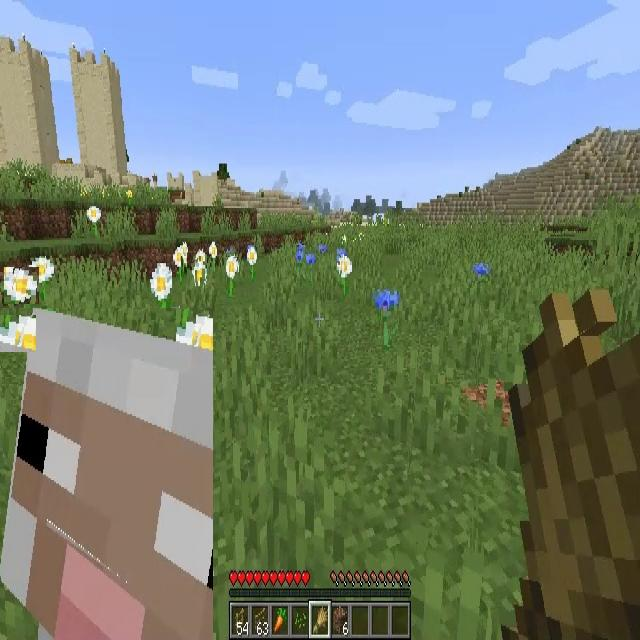flower: (375, 291, 399, 345), (4, 267, 39, 304), (1, 315, 36, 352), (152, 262, 172, 310), (33, 253, 54, 281), (336, 258, 352, 294), (226, 257, 238, 298), (88, 207, 100, 236), (192, 264, 207, 287), (246, 245, 256, 279), (173, 250, 183, 282), (296, 245, 306, 275), (306, 252, 316, 282), (473, 264, 490, 281), (208, 242, 218, 268), (181, 242, 187, 274)
sheep: (0, 308, 213, 640)
